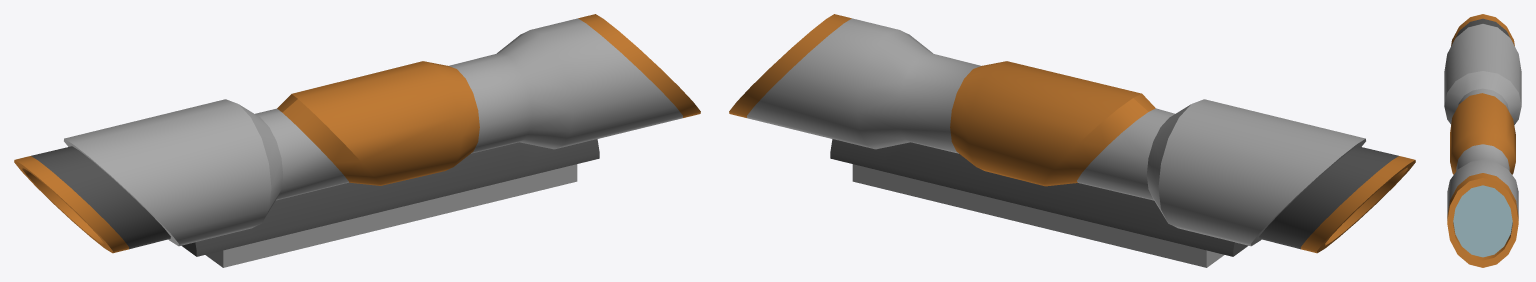
File: quaternius-modular-sci-fi-guns-scope-2.glb
The picture shows the model from 3 angles, left to right: view 1: azimuth 30°, elevation 25°; view 2: azimuth 150°, elevation 25°; view 3: azimuth 270°, elevation 25°; orthographic projection. The views are drawn at different scales.
Parts seen in each view (by area): view 1: Scope_2; view 2: Scope_2; view 3: Scope_2.
Boxes of the visible parts, x1,y1,x2,y2 form: Scope_2: (14, 14, 700, 267); Scope_2: (729, 14, 1415, 267); Scope_2: (1444, 14, 1521, 267).
Bounding box in the file's own units: 0.721 × 0.1544 × 0.1236.
